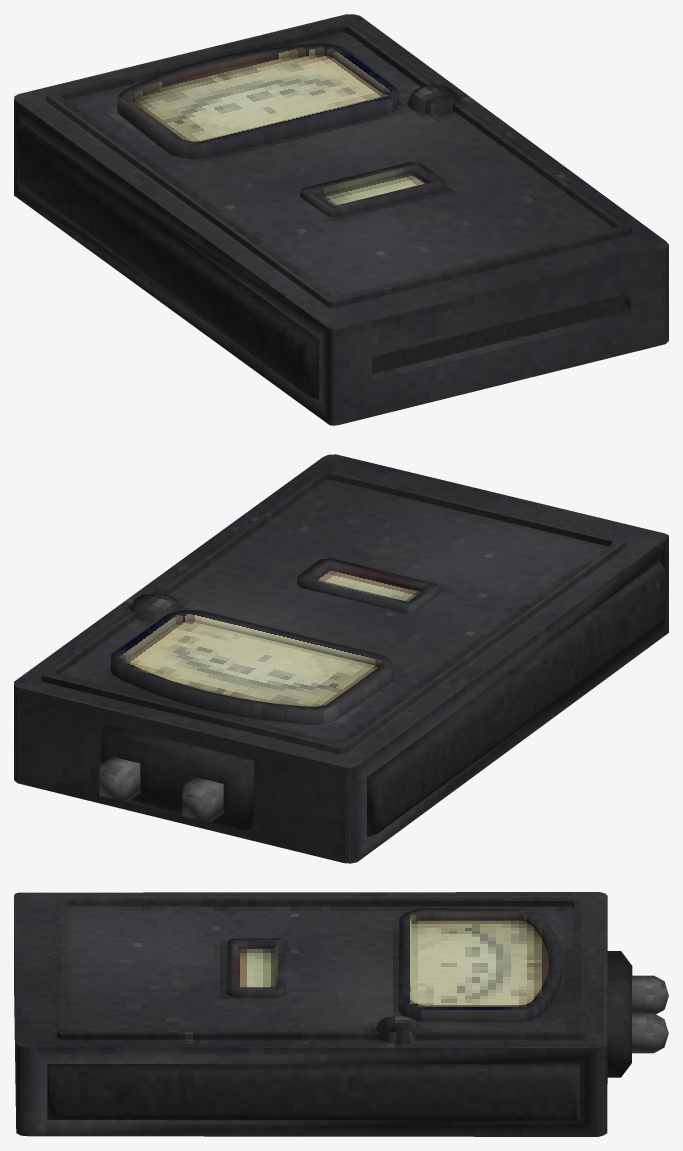
The model's file is dosimeter_4.glb.
The picture shows the model from 3 angles, top to bottom: view 1: azimuth 30°, elevation 25°; view 2: azimuth 150°, elevation 25°; view 3: azimuth 270°, elevation 25°; orthographic projection. The views are drawn at different scales.
Parts seen in each view (by area): view 1: dosimeter_4; view 2: dosimeter_4; view 3: dosimeter_4.
Boxes of the visible parts, bbox=[...] form: dosimeter_4: bbox=[14, 14, 668, 425]; dosimeter_4: bbox=[14, 454, 668, 863]; dosimeter_4: bbox=[14, 892, 668, 1136].
Size of the model in its own units: 0.1602 by 0.045 by 0.2667.
3 materials, 3 textured.
